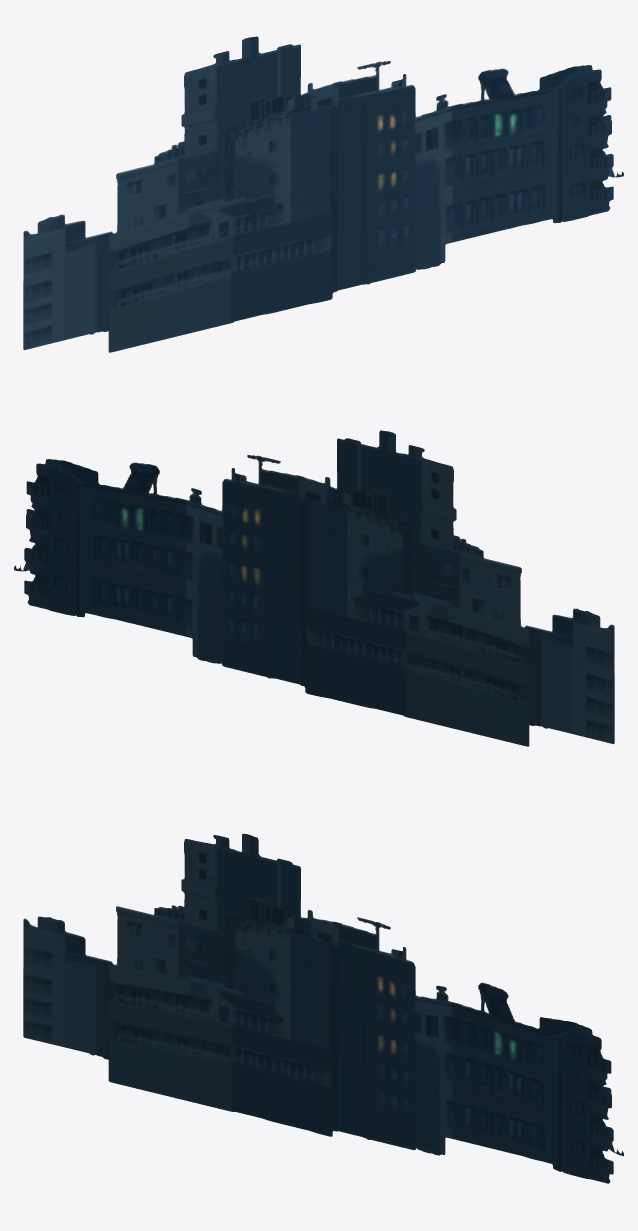
Rendered from HuBian_NightFangzi1_fbx.FBX.
3 views of the same model, one above another, from view 1: azimuth 30°, elevation 25°; view 2: azimuth 150°, elevation 25°; view 3: azimuth 330°, elevation 25° (orthographic).
Parts seen in each view (by area): view 1: Object052; view 2: Object052; view 3: Object052.
Part boxes in pixels (box(x1,y1,x2,y2)): Object052: box(23, 36, 623, 352); Object052: box(14, 430, 614, 746); Object052: box(23, 833, 623, 1183).
Size of the model in its own units: 7.65 by 3.53 by 6.08e-07.
1 material, 1 textured.
